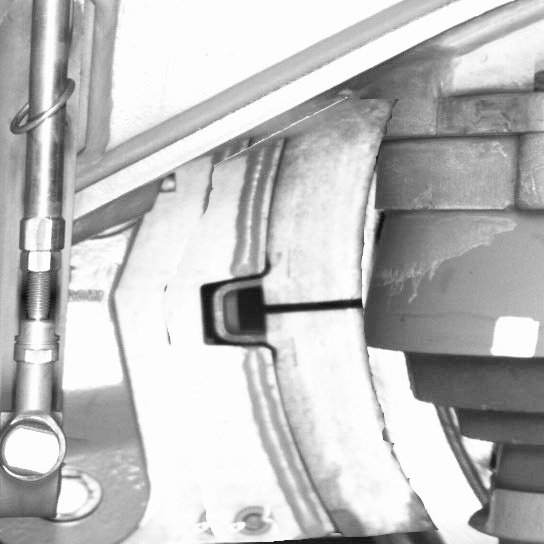ClosedKnifeSwitch: (232, 138, 448, 540)
